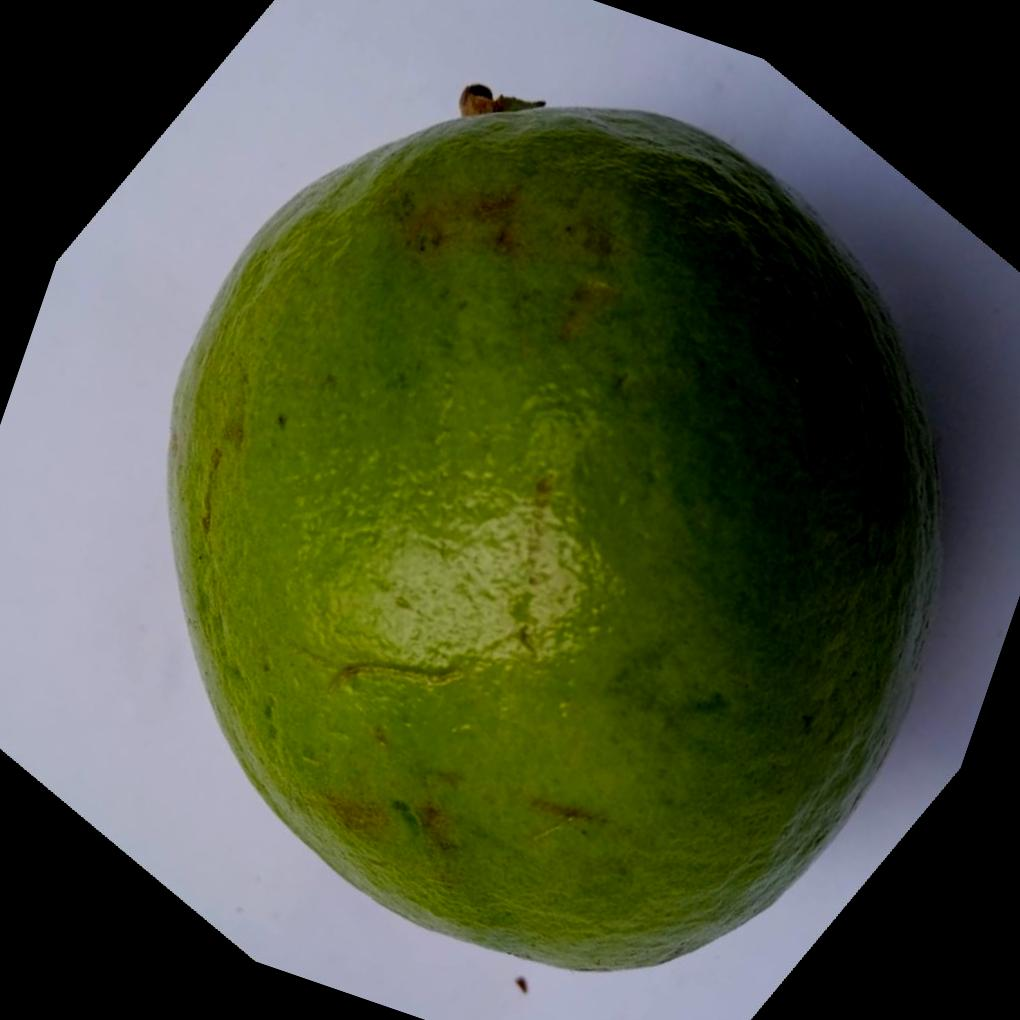FreshGuava: (169, 92, 948, 977)
